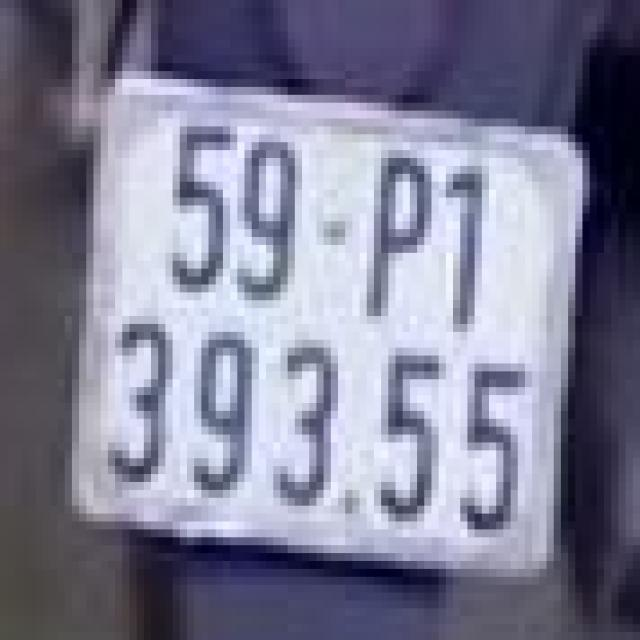1: (439, 154, 503, 336)
3: (100, 316, 172, 498), (270, 336, 342, 517)
5: (464, 348, 536, 561), (367, 348, 446, 537), (162, 111, 234, 308)
9: (184, 320, 262, 510), (233, 138, 306, 304)
P: (359, 142, 432, 340)
